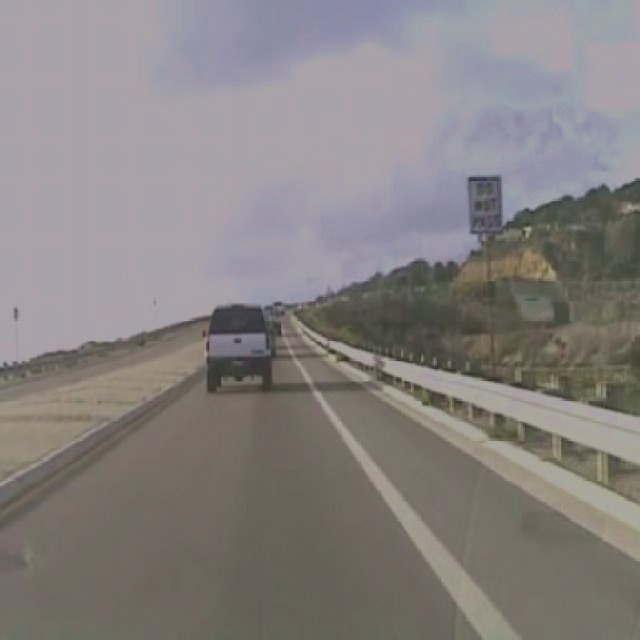doNotPass: (466, 172, 503, 233)
